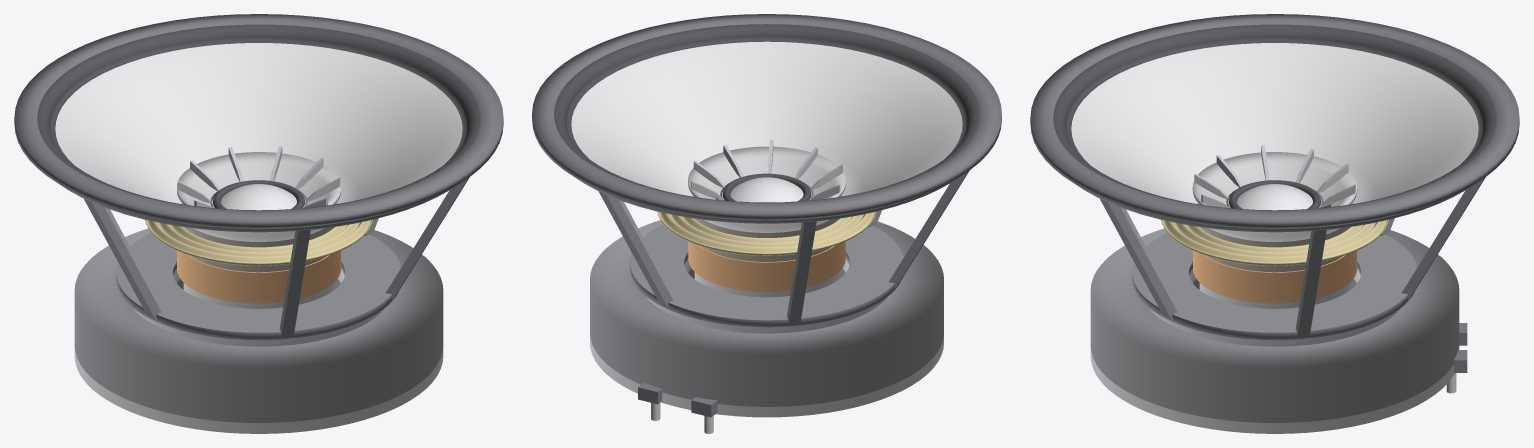
Rendered from uniq.glb.
3 views of the same model, side by side, from view 1: azimuth 30°, elevation 25°; view 2: azimuth 150°, elevation 25°; view 3: azimuth 270°, elevation 25° (orthographic). The views are drawn at different scales.
Parts seen in each view (by area): view 1: mid_cone, mid_magnet, mid_basket, trim_ring, mid_surround, waveguide, mid_backplate, mid_coil, mid_spider, mid_topplate, tweeter_dome, mid_former (+1 smaller); view 2: mid_cone, mid_magnet, mid_basket, trim_ring, mid_surround, waveguide, mid_coil, mid_backplate, mid_spider, mid_topplate, tweeter_dome, mid_former (+2 smaller); view 3: mid_cone, mid_magnet, mid_basket, trim_ring, mid_surround, waveguide, mid_backplate, mid_coil, mid_spider, mid_topplate, tweeter_dome, mid_former (+2 smaller).
Boxes of the visible parts, <box> form: mid_cone: <box>55,43,462,241</box>; mid_magnet: <box>74,228,443,422</box>; mid_basket: <box>61,177,469,339</box>; trim_ring: <box>14,14,503,227</box>; mid_surround: <box>37,24,480,229</box>; waveguide: <box>177,146,340,208</box>; mid_backplate: <box>74,283,443,433</box>; mid_coil: <box>177,251,340,303</box>; mid_spider: <box>145,219,372,265</box>; mid_topplate: <box>133,269,384,346</box>; tweeter_dome: <box>221,184,296,210</box>; mid_former: <box>182,204,335,272</box>; mid_cone: <box>571,41,962,232</box>; mid_magnet: <box>590,220,943,406</box>; mid_basket: <box>576,170,969,327</box>; trim_ring: <box>532,14,1001,219</box>; mid_surround: <box>554,24,979,220</box>; waveguide: <box>688,140,845,200</box>; mid_coil: <box>688,241,845,291</box>; mid_backplate: <box>590,272,943,417</box>; mid_spider: <box>657,211,876,255</box>; mid_topplate: <box>646,259,887,333</box>; tweeter_dome: <box>730,177,803,202</box>; mid_former: <box>693,196,840,261</box>; mid_cone: <box>1071,43,1478,241</box>; mid_magnet: <box>1090,228,1459,422</box>; mid_basket: <box>1077,177,1485,339</box>; trim_ring: <box>1030,14,1519,227</box>; mid_surround: <box>1053,24,1496,229</box>; waveguide: <box>1192,145,1357,207</box>; mid_backplate: <box>1090,283,1459,433</box>; mid_coil: <box>1193,251,1356,303</box>; mid_spider: <box>1161,219,1388,265</box>; mid_topplate: <box>1149,269,1400,346</box>; tweeter_dome: <box>1237,184,1312,210</box>; mid_former: <box>1198,204,1351,272</box>.
Size of the model in its own units: 122 by 72.1 by 122.
